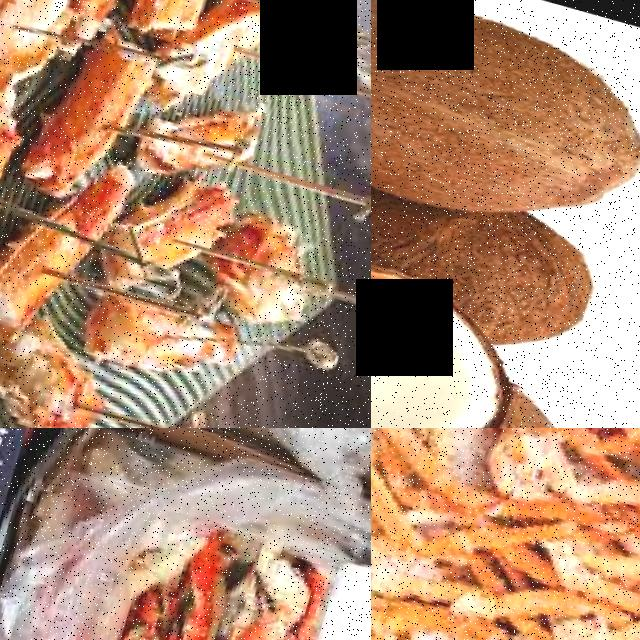coconut: (371, 0, 640, 250), (371, 213, 539, 428)
crab: (381, 428, 640, 634), (371, 530, 640, 640), (86, 528, 324, 640), (371, 428, 640, 510)
